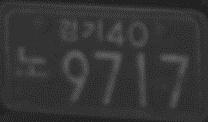0: (127, 19, 149, 49)
1: (128, 52, 157, 106)
4: (106, 20, 126, 48)
7: (158, 50, 189, 110), (93, 49, 124, 106)
9: (59, 48, 91, 102)
경기_O: (57, 17, 104, 42)
노: (14, 44, 49, 79)
